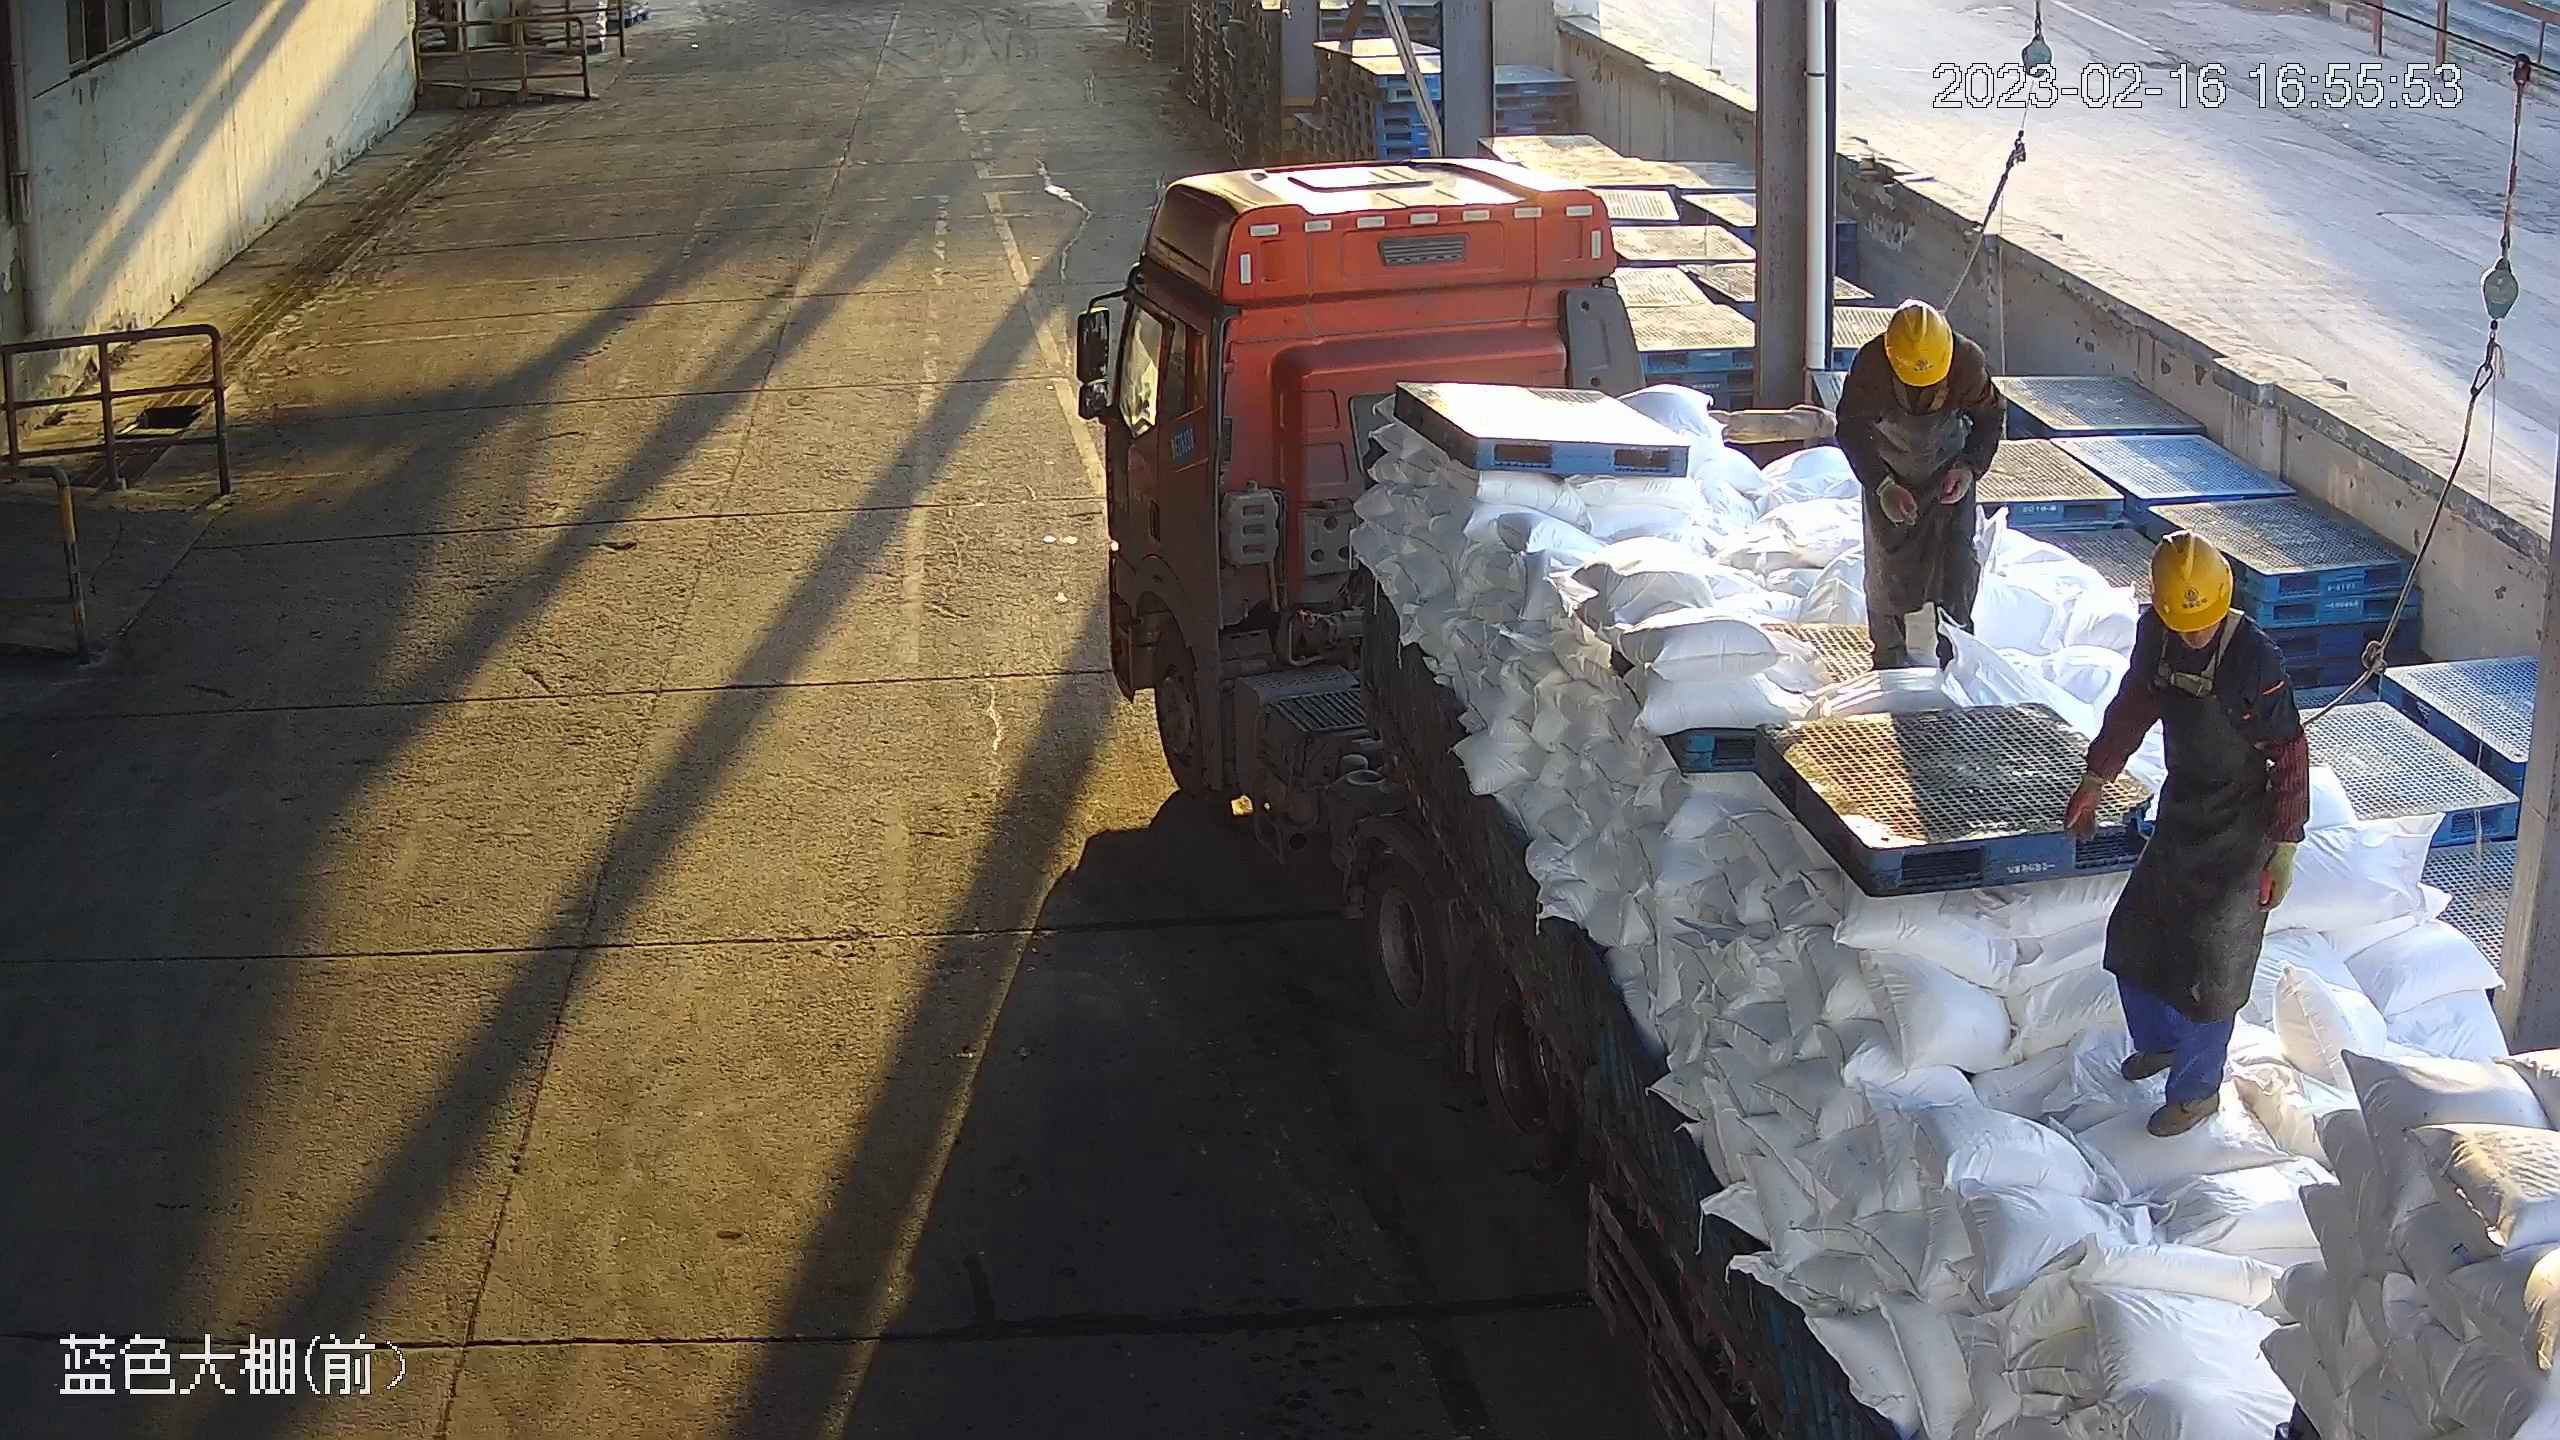belt: (2146, 604, 2244, 701), (1890, 367, 1953, 432)
head: (2083, 534, 2288, 727), (1833, 308, 1998, 440)
helmet: (2144, 523, 2236, 641), (1879, 303, 1964, 392)
people: (2071, 528, 2301, 1127), (1829, 291, 2020, 679)
truck: (1070, 149, 2560, 1440)
